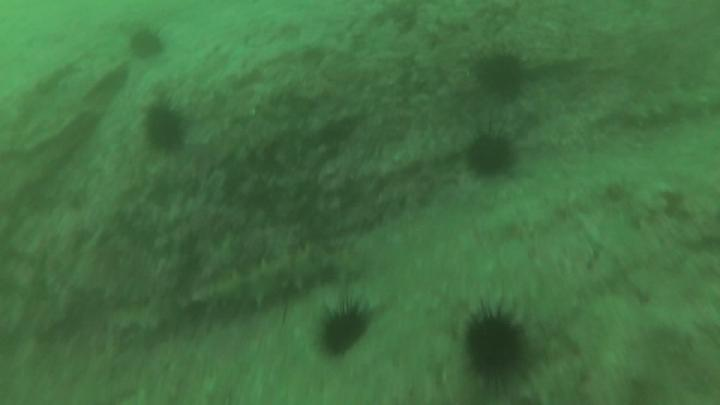holothurian: (192, 245, 327, 313)
starfish: (466, 317, 526, 375), (474, 53, 523, 99), (466, 133, 517, 176), (324, 312, 367, 354), (143, 106, 184, 150), (128, 34, 161, 58)
